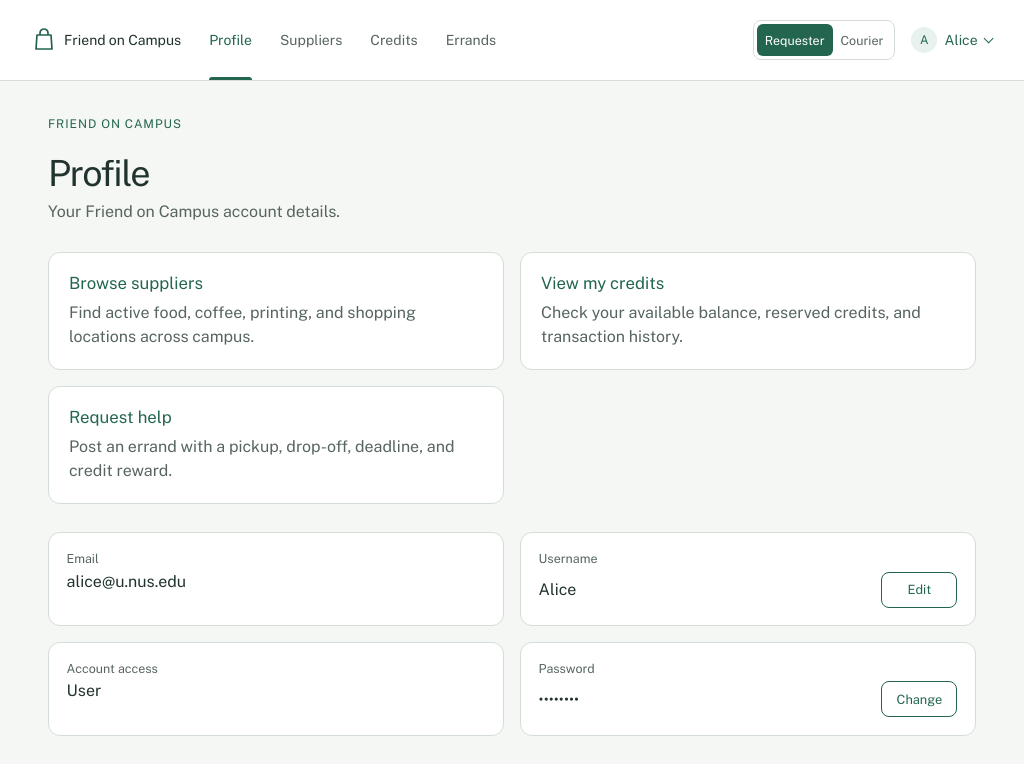
Test: keeps the password-change form open when the current password is incorrect
Click the button "Change" at (919, 699), box [881,681,957,717]
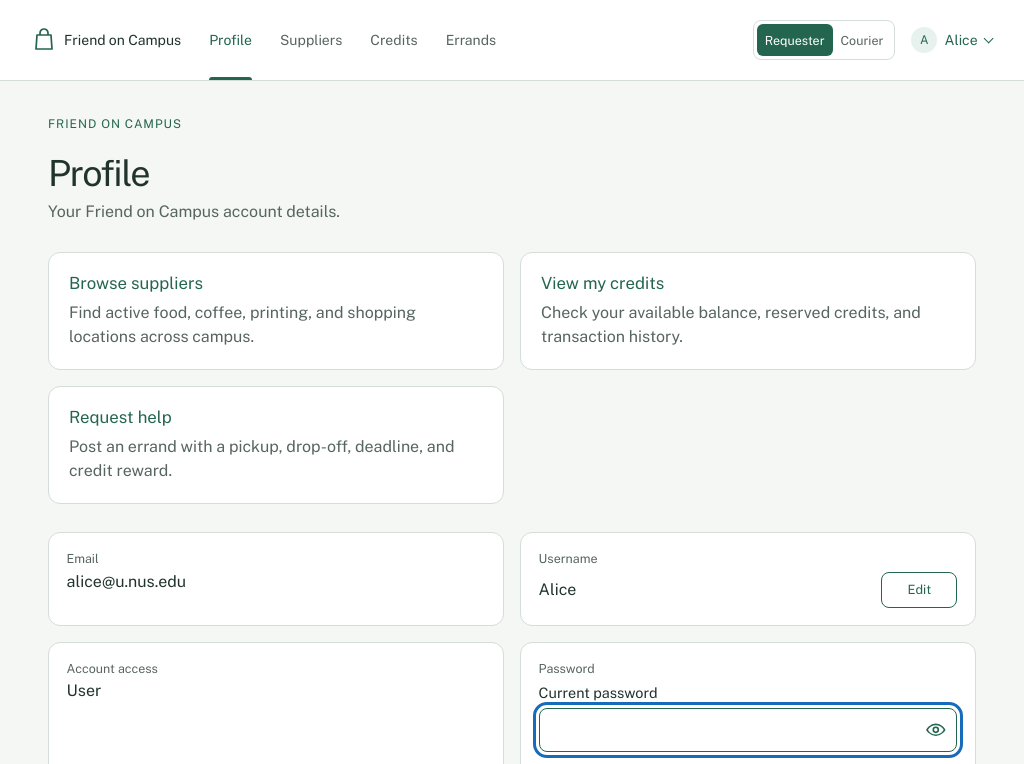
Type "wrong-password" into the password field labelled "Current password" at (748, 730), box [539,708,957,752]
(page scrolled)
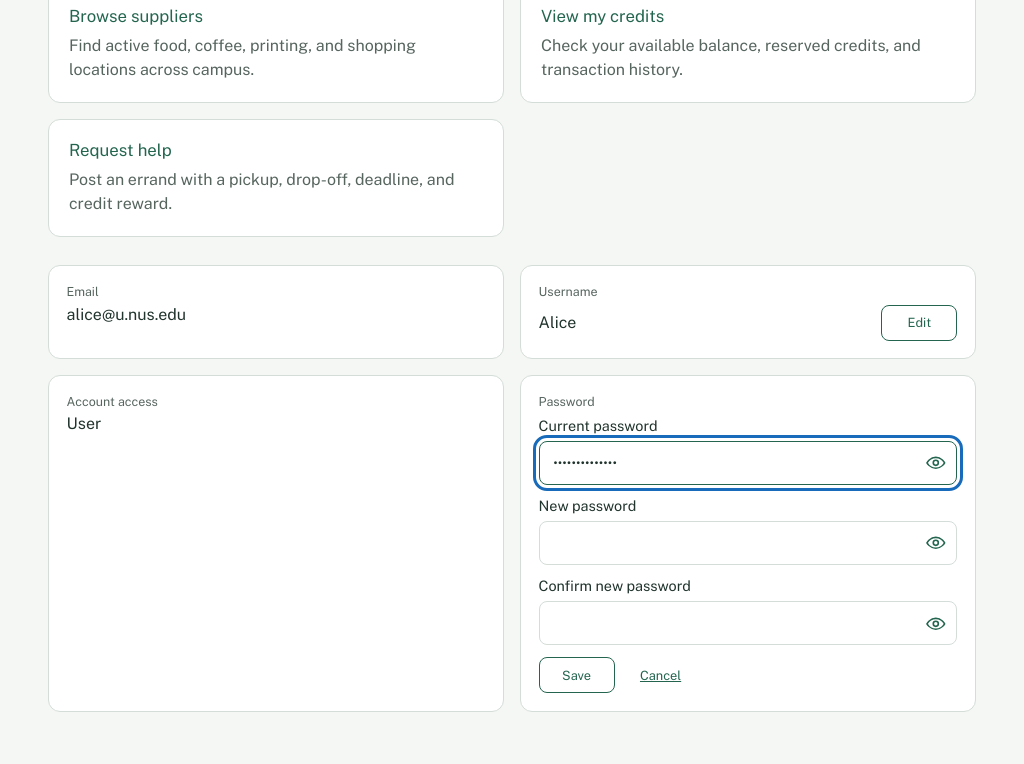
Type "replacement-password-with-15-chars" into the password field labelled "New password" at (748, 543), box [539,521,957,565]
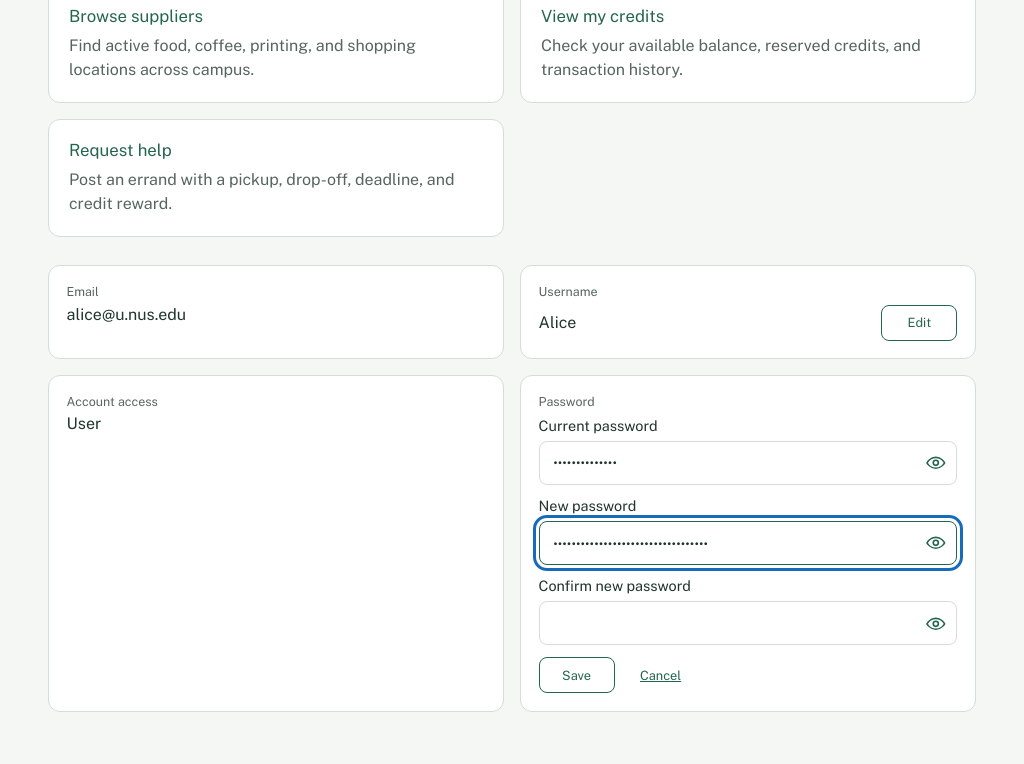
Type "replacement-password-with-15-chars" into the password field labelled "Confirm new password" at (748, 623), box [539,601,957,645]
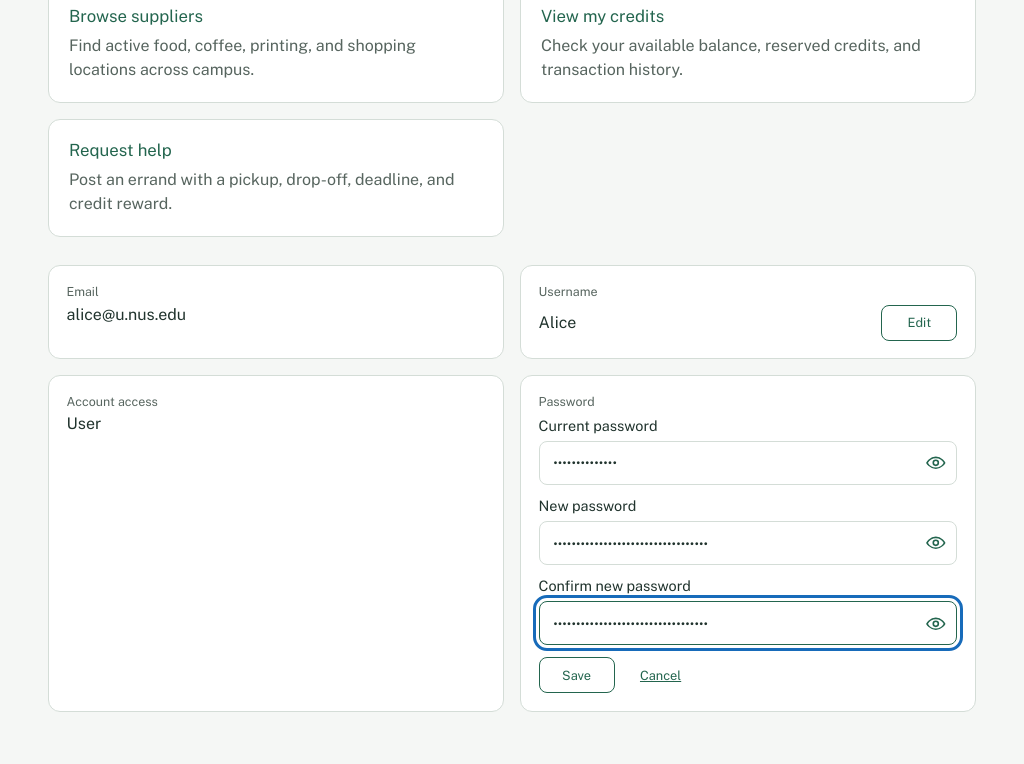
Click the button "Save" at (577, 675), box [539,657,615,693]
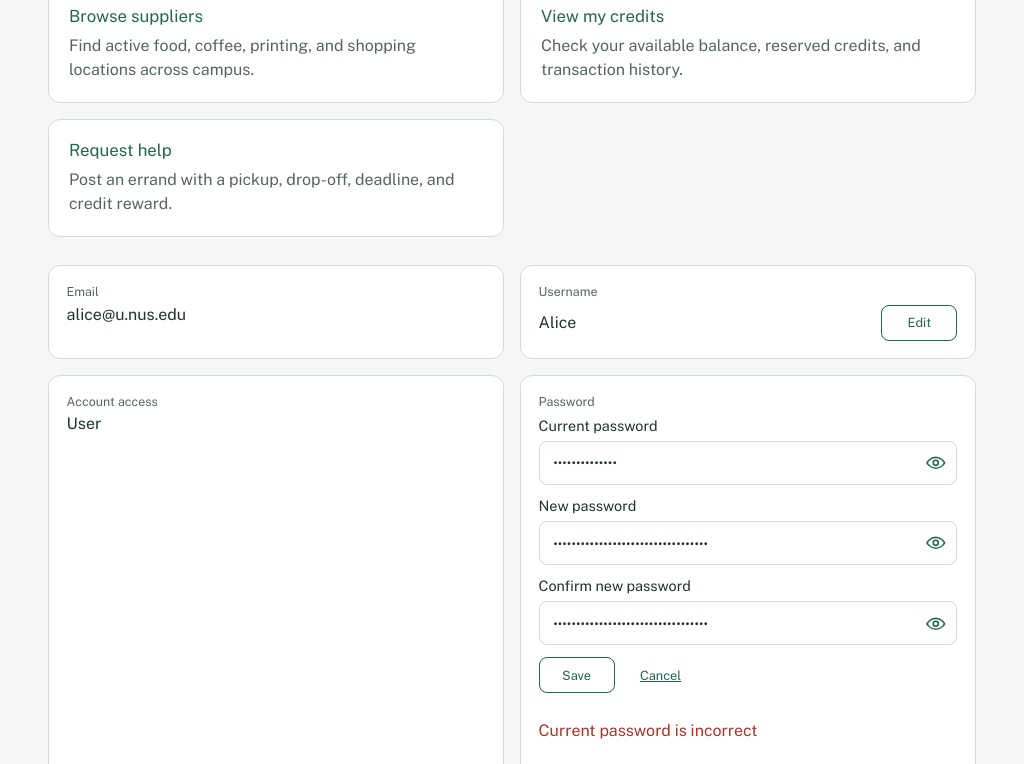
Now the form named "Change password form" is shown, box [539,417,957,756]
Now the message reads "Current password is incorrect", box [539,721,758,740]
